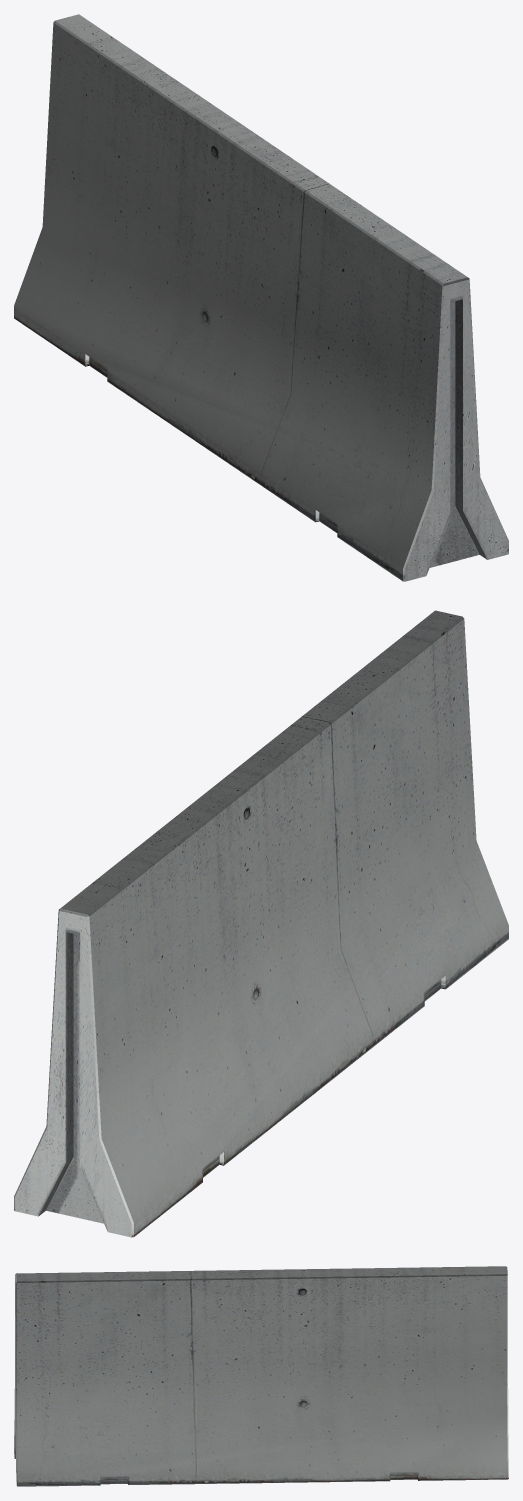
The model's file is roadblock.fbx.
3 renders of one model, top to bottom at view 1: azimuth 30°, elevation 25°; view 2: azimuth 150°, elevation 25°; view 3: azimuth 270°, elevation 25°, orthographic. The views are drawn at different scales.
Parts seen in each view (by area): view 1: roadblock.001; view 2: roadblock.001; view 3: roadblock.001.
Part boxes in pixels (<box>): roadblock.001: <box>14,14,508,581</box>; roadblock.001: <box>14,610,508,1237</box>; roadblock.001: <box>14,1266,508,1486</box>.
Bounding box in the file's own units: 0.5818 × 1.22 × 2.86.
1 material, 1 textured.
